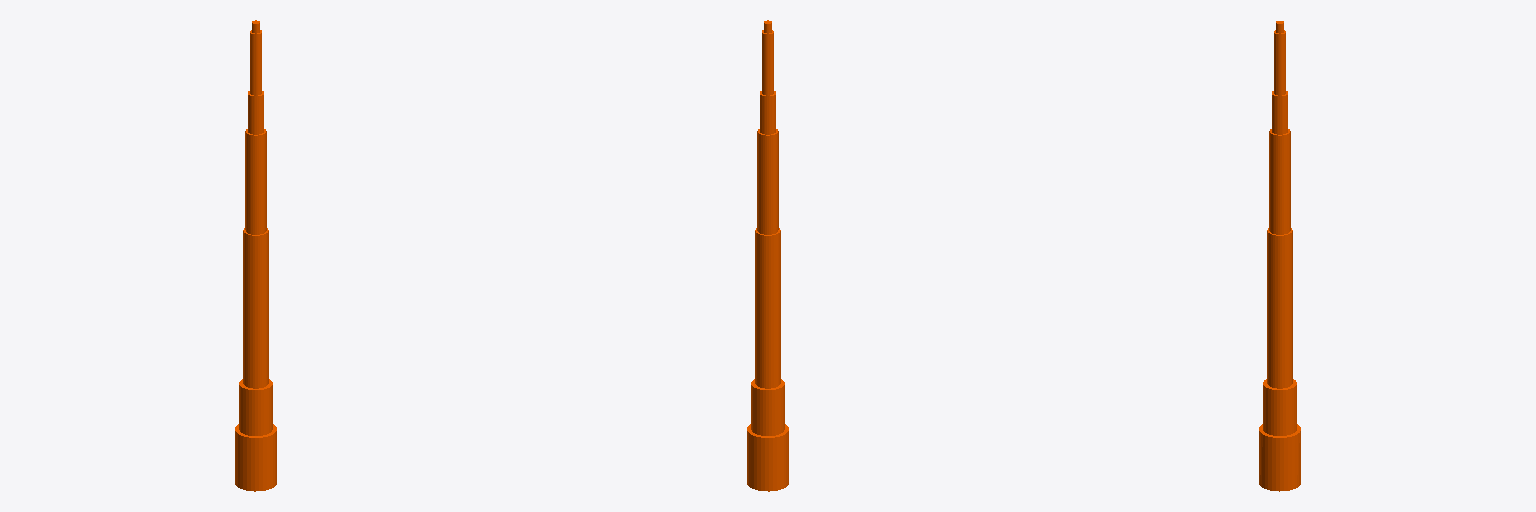
robot.urdf — qixing:
<?xml version="1.0"?>
<robot name="qixing">
	<link name="base_link">
		<visual>			
			<geometry>
				<cylinder length="0.14" radius="0.05"/>
			</geometry>
			<origin rpy="3.14 0 0" xyz="0 0 0.07"/>
			<material name="abb_origin">
				<color	rgba="1 0.43 0 1" />
			</material>	
		</visual>
		<collision>
			<geometry>
				<cylinder length="0.14" radius="0.05"/>
			</geometry>
			<origin rpy="3.14 0 0 " xyz="0 0 0.07"/>
		</collision>
	</link>

	<joint name="joint1" type="continuous">
		<parent link="base_link" />
		<child link="link1" />
		<axis xyz="0 0 1" />
		<origin xyz="0 0 0.14" />
	</joint>

	<link name="link1">
		<visual>
			<geometry>
				<cylinder length="0.12" radius="0.04"/>
			</geometry>
			<origin xyz="0 0 0.06" />
			<material name="abb_origin" />	
		</visual>
		<collision>
			<geometry>
				<cylinder length="0.12" radius="0.04"/>
			</geometry>
			<origin xyz="0 0 0.06" />
		</collision>
	</link>

	<joint name="joint2" type="continuous">
		<parent link="link1" />
		<child link="link2" />
		<axis xyz="0 1 0" />
		<origin xyz="0 0 0.12" />
	</joint>

	<link name="link2">
		<visual>
			<geometry>
				<cylinder length="0.4" radius="0.03" />
			</geometry>
			<origin xyz="0 0 0.2" />
			<material name="abb_origin" />
		</visual>
		<collision>
			<geometry>
				<cylinder length="0.4" radius="0.03" />
			</geometry>
			<origin xyz="0 0 0.2" />
		</collision>
	</link>

	<joint name="joint3" type="continuous">
		<parent link="link2" />
		<child link="link3" />
		<axis xyz="0 1 0" />
		<origin xyz="0 0 0.4" />
	</joint>	

	<link name="link3">
		<visual>
			<geometry>
				<cylinder length="0.26" radius="0.025" />
			</geometry>
			<origin xyz="0 0 0.13" />
			<material name="abb_origin" />
		</visual>
		<collision>
			<geometry>
				<cylinder length="0.26" radius="0.025" />
			</geometry>
			<origin xyz="0 0 0.13" />
		</collision>
	</link>

	<joint name="joint4" type="continuous">
		<parent link="link3" />
		<child link="link4" />
		<axis xyz="0 0 1" />
		<origin xyz="0 0 0.26" />
	</joint>

	<link name="link4">
		<visual>
			<geometry>
				<cylinder length="0.1" radius="0.02" />
			</geometry>
			<origin xyz="0 0 0.05" />
			<material name="abb_origin" />
		</visual>
		<collision>
			<geometry>
				<cylinder length="0.1" radius="0.02" />
			</geometry>
			<origin xyz="0 0 0.05" />
		</collision>
	</link>

	<joint name="joint5" type="continuous">
		<parent link="link4" />
		<child link="link5" />
		<axis xyz="0 1 0" />
		<origin xyz="0 0 0.1" />
	</joint>

	<link name="link5">
		<visual>
			<geometry>
				<cylinder length="0.16" radius="0.015" />
			</geometry>
			<origin xyz="0 0 0.08" />
			<material name="abb_origin" />
		</visual>
		<collision>
			<geometry>
				<cylinder length="0.16" radius="0.015" />
			</geometry>
			<origin xyz="0 0 0.08" />
		</collision>
	</link>

	<joint name="joint6" type="continuous">
		<parent link="link5" />
		<child link="link6" />
		<axis xyz="0 0 1" />
		<origin xyz="0 0 0.16" />
	</joint>
	 
	<link name="link6">
		<visual>
			<geometry>
				<cylinder length="0.025" radius="0.01" />
			</geometry>
			<origin xyz="0 0 0.0125" />
			<material name="abb_origin" />
		</visual>
		<collision>
			<geometry>
				<cylinder length="0.025" radius="0.01" />
			</geometry>
			<origin xyz="0 0 0.0125" />
		</collision>
	</link>
</robot>

--- Facts derived from the render (not from the file) ---
Views: 3 orthographic renders of the robot side by side, from view 1: azimuth 30°, elevation 25°; view 2: azimuth 150°, elevation 25°; view 3: azimuth 270°, elevation 25°.
Robot: qixing — 7 links, 6 joints (6 continuous); root link base_link; default pose: all joints at 0.
Visible links, largest first — view 1: link2, base_link, link3, link1, link5, link4; view 2: link2, base_link, link3, link1, link5, link4; view 3: link2, base_link, link3, link1, link5, link4.
Boxes of the visible links, left/top/right/bottom form: link2: left=243, top=228, right=268, bottom=388; base_link: left=235, top=424, right=276, bottom=491; link3: left=245, top=129, right=266, bottom=234; link1: left=239, top=379, right=272, bottom=435; link5: left=250, top=30, right=261, bottom=95; link4: left=248, top=91, right=263, bottom=134; link2: left=755, top=228, right=780, bottom=388; base_link: left=747, top=424, right=788, bottom=491; link3: left=757, top=129, right=778, bottom=234; link1: left=751, top=379, right=784, bottom=435; link5: left=762, top=30, right=773, bottom=95; link4: left=760, top=91, right=775, bottom=134; link2: left=1267, top=228, right=1292, bottom=388; base_link: left=1259, top=424, right=1300, bottom=491; link3: left=1269, top=129, right=1290, bottom=234; link1: left=1263, top=379, right=1296, bottom=435; link5: left=1274, top=30, right=1285, bottom=95; link4: left=1272, top=91, right=1287, bottom=134.
Size in the robot's own frame: 0.1 by 0.1002 by 1.21 metres.
Geometry: primitives only (box / cylinder / sphere), no mesh files.